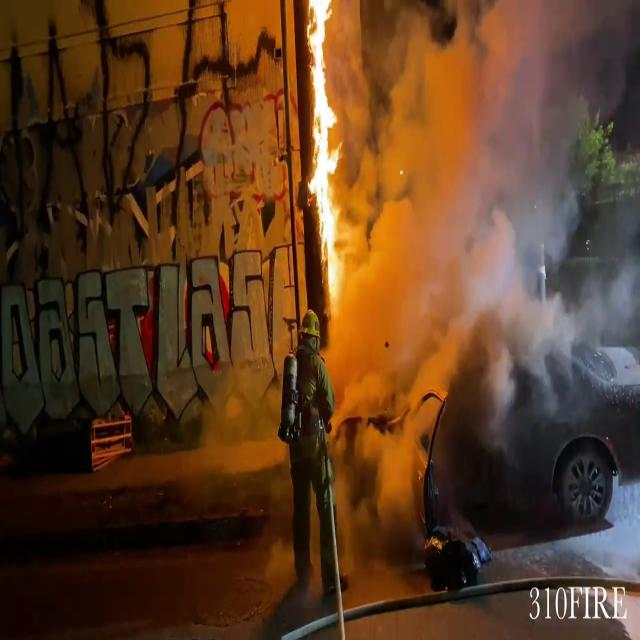Fire: (301, 0, 354, 292)
Smoke: (332, 0, 640, 548)
